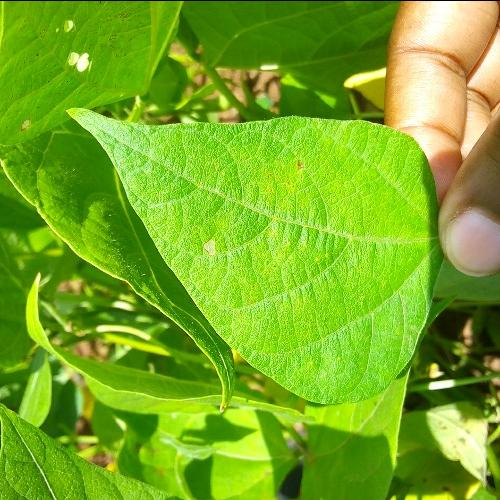hawar: (292, 156, 310, 173)
sehat: (270, 199, 406, 361), (151, 134, 256, 220), (211, 272, 261, 327)
